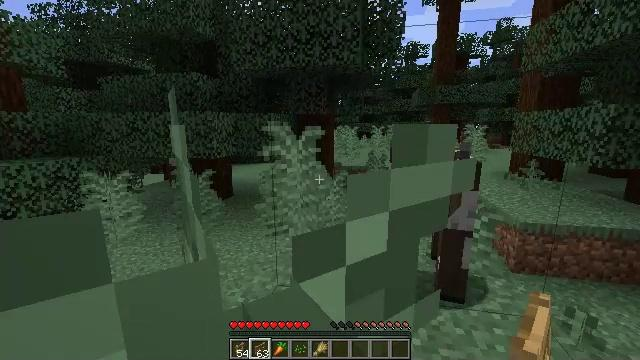cow: (381, 159, 478, 307)
